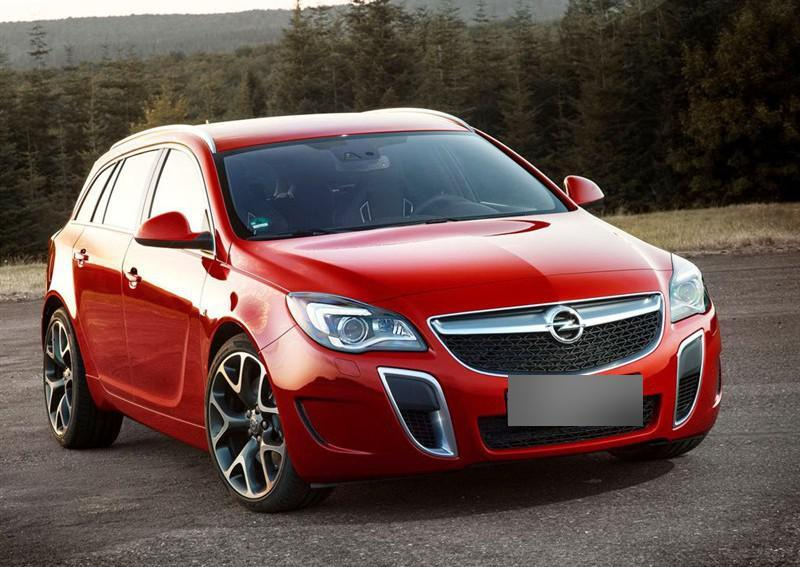Wagon: (38, 107, 723, 518)
